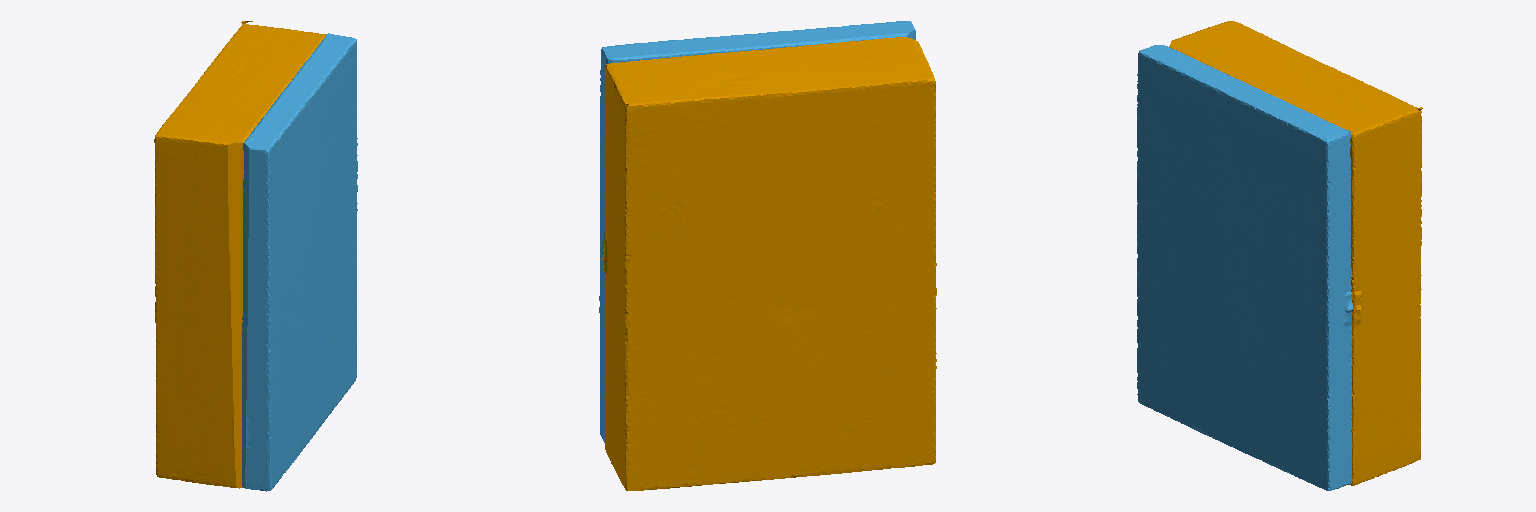
The robot description file, URDF, robot "box":
<?xml version="1.0" ?>
<!-- This file was generated from obj_file/4x4x4_real.stl. -->
<robot name="box">

  <link name="bottom">
    <visual>
      <origin xyz="0 0 0"/>
      <geometry>
        <mesh filename="./object_vtemplates/box/bottom.obj" scale="0.001 0.001 0.001"/>
      </geometry>
    </visual>
    <collision>
      <origin xyz="0 0 0"/>
      <geometry>
        <mesh filename="./object_vtemplates/box/bottom.obj" scale="0.001 0.001 0.001"/>
        <!-- concurrent convex decomposition leads broken simulation for unknown reason -->
        <!-- <mesh filename="./object_vtemplates/box/bottom_cd.obj" scale="0.001 0.001 0.001"/> -->
      </geometry>
    </collision>
    <inertial>
      <density value="567.0"/>
    </inertial>
  </link>

  <link name="top">
    <visual>
      <origin xyz="0 0 0"/>
      <geometry>
        <mesh filename="./object_vtemplates/box/top.obj" scale="0.001 0.001 0.001"/>
      </geometry>
    </visual>
    <collision>
      <origin xyz="0 0 0"/>
      <geometry>
        <mesh filename="./object_vtemplates/box/top_cd.obj" scale="0.001 0.001 0.001"/>
      </geometry>
    </collision>
    <inertial>
      <density value="567.0"/>
    </inertial>
  </link>

  <joint name="joint1" type="revolute">
    <parent link="bottom"/>
    <child link="top"/>
    <origin rpy="0 0 0" xyz="0 0 0.0"/>
    <axis xyz="0 0 -1"/>
    <limit lower="0" upper="3.14"/>
    <!-- <limit effort="50.0" lower="0.000" upper="0.001" velocity="3.14"/>
    <dynamics damping="1.0" friction="1.0"/> -->
  </joint>

</robot>

--- Facts derived from the render (not from the file) ---
Views: 3 orthographic renders of the robot side by side, from view 1: azimuth 30°, elevation 25°; view 2: azimuth 150°, elevation 25°; view 3: azimuth 270°, elevation 25°.
Robot: box — 2 links, 1 joints (1 revolute); root link bottom; default pose: every joint at zero.
Links seen in each view (by area): view 1: top, bottom; view 2: bottom, top; view 3: top, bottom.
Boxes of the visible links, box(x1,y1,x2,y2) form: top: box(242, 33, 357, 491); bottom: box(154, 21, 325, 488); bottom: box(601, 37, 936, 490); top: box(599, 21, 915, 442); top: box(1137, 45, 1352, 490); bottom: box(1169, 21, 1422, 485).
Size in the robot's own frame: 0.2572 by 0.2488 by 0.3408 metres.
2 mesh visuals loaded from 2 distinct referenced files (2 OBJ).
